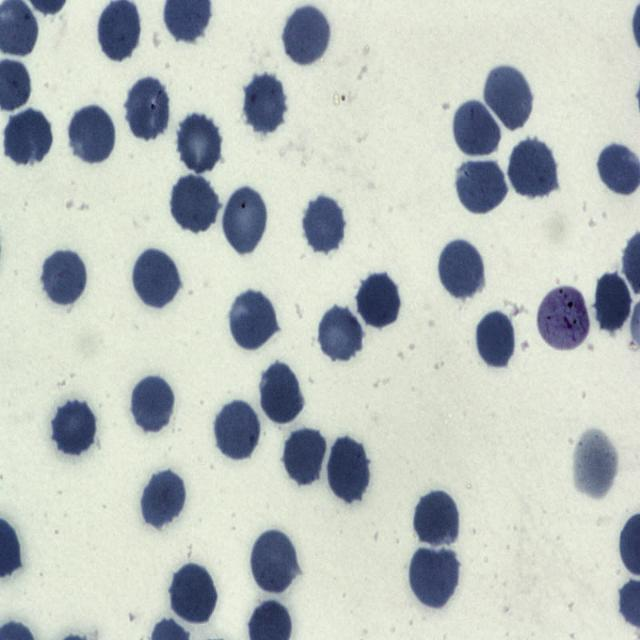red blood cell: (482, 62, 534, 132), (222, 183, 268, 257), (249, 527, 298, 596), (408, 544, 459, 610), (572, 430, 620, 499), (281, 2, 331, 68), (508, 137, 559, 200), (125, 74, 172, 142), (453, 157, 508, 215), (228, 288, 278, 351), (67, 103, 117, 166), (132, 247, 182, 310), (437, 238, 486, 302), (213, 397, 261, 462), (451, 98, 502, 158), (175, 110, 222, 175), (170, 174, 220, 235), (3, 108, 54, 167), (170, 563, 218, 625), (259, 360, 304, 426), (326, 436, 370, 502), (316, 304, 365, 363), (129, 372, 176, 433), (243, 72, 288, 135), (40, 248, 87, 307), (413, 489, 460, 548), (140, 468, 186, 528), (51, 398, 98, 456), (282, 426, 327, 486), (302, 194, 346, 255), (357, 271, 400, 327), (475, 311, 516, 368), (595, 271, 632, 333)
ring: (538, 286, 590, 352)
